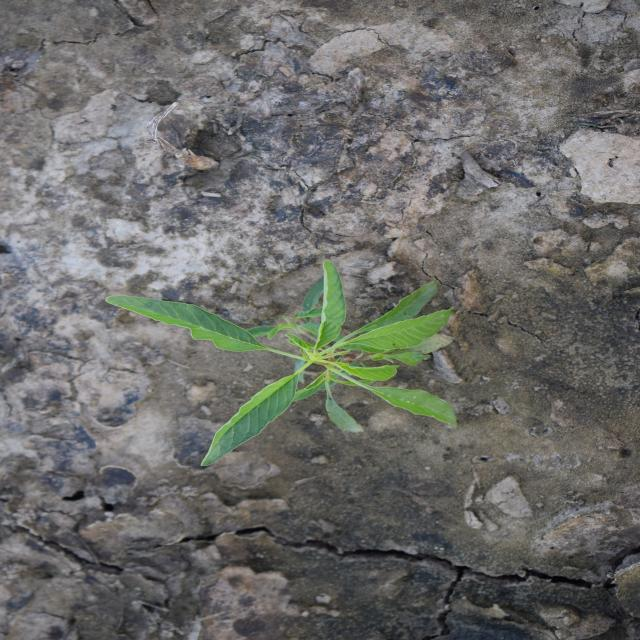Waterhemp: (102, 258, 461, 468)
